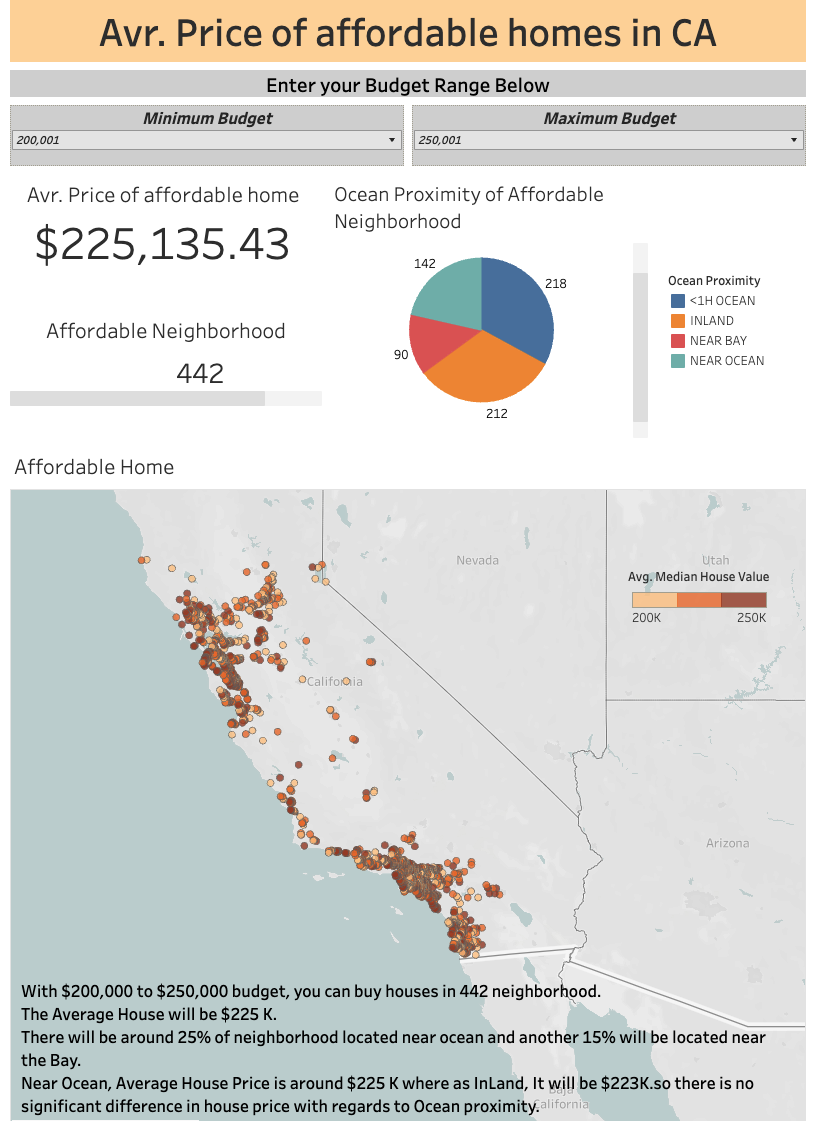

This screenshot's page, from the dashboard's own definition file:
{"tool":"tableau","page":{"name":"Avr. Price of affordable homes in CA","canvas":[1000,1000],"units":"permille","ordinal":0},"visuals":[{"type":"title","box":[9.8,6.9,980.5,60.4]},{"type":"text","box":[9.8,67.2,980.5,29.3]},{"type":"parameter","param":"[Parameters].[Parameter 1]","box":[9.8,96.6,490.2,56]},{"type":"parameter","param":"[Parameters].[Enter your Budget (copy)_5461177540087558150]","box":[500,96.6,490.2,56]},{"type":"worksheet","title":"Avr. Price of affordable home","mark":"Automatic","box":[9.8,152.6,390.2,117.7]},{"type":"worksheet","title":"Ocean Proximity of Affordable Neighborhood","mark":"Pie","box":[400,152.6,590.2,235.7]},{"type":"legend","title":"Ocean Proximity of Affordable Neighborhood","param":"[federated.0e5wdql09sb56g10pghwm11j47eq].[none:ocean_proximity:nk]","box":[817.1,244.8,170.7,122.9]},{"type":"worksheet","title":"Affordable Neighborhood","mark":"Text","box":[9.8,270.3,390.2,118]},{"type":"worksheet","title":"Affordable Home","mark":"Multipolygon","rows":["latitude"],"cols":["longitude"],"box":[9.8,388.3,980.5,604.8]},{"type":"legend","title":"Affordable Home","param":"[federated.0e5wdql09sb56g10pghwm11j47eq].[avg:median_house_value:qk]","box":[768.3,500,174.4,79.2]},{"type":"text","box":[28.1,842.2,931.7,143.1]}]}

Visuals, with their boxes on the dashboard's canvas, which has no fixed pixel size, in thousandths of its width and height (x1, y1, x2, y2). These are canvas units, not pixel positions in the 815x1121 screenshot, which may show the page scaled, cropped or inside an application window:
title: <box>10,7,990,67</box>
text: <box>10,67,990,96</box>
parameter: <box>10,97,500,153</box>
parameter: <box>500,97,990,153</box>
"Avr. Price of affordable home" worksheet: <box>10,153,400,270</box>
"Ocean Proximity of Affordable Neighborhood" worksheet (Pie marks): <box>400,153,990,388</box>
"Ocean Proximity of Affordable Neighborhood" legend: <box>817,245,988,368</box>
"Affordable Neighborhood" worksheet (Text marks): <box>10,270,400,388</box>
"Affordable Home" worksheet (Multipolygon marks): <box>10,388,990,993</box>
"Affordable Home" legend: <box>768,500,943,579</box>
text: <box>28,842,960,985</box>
